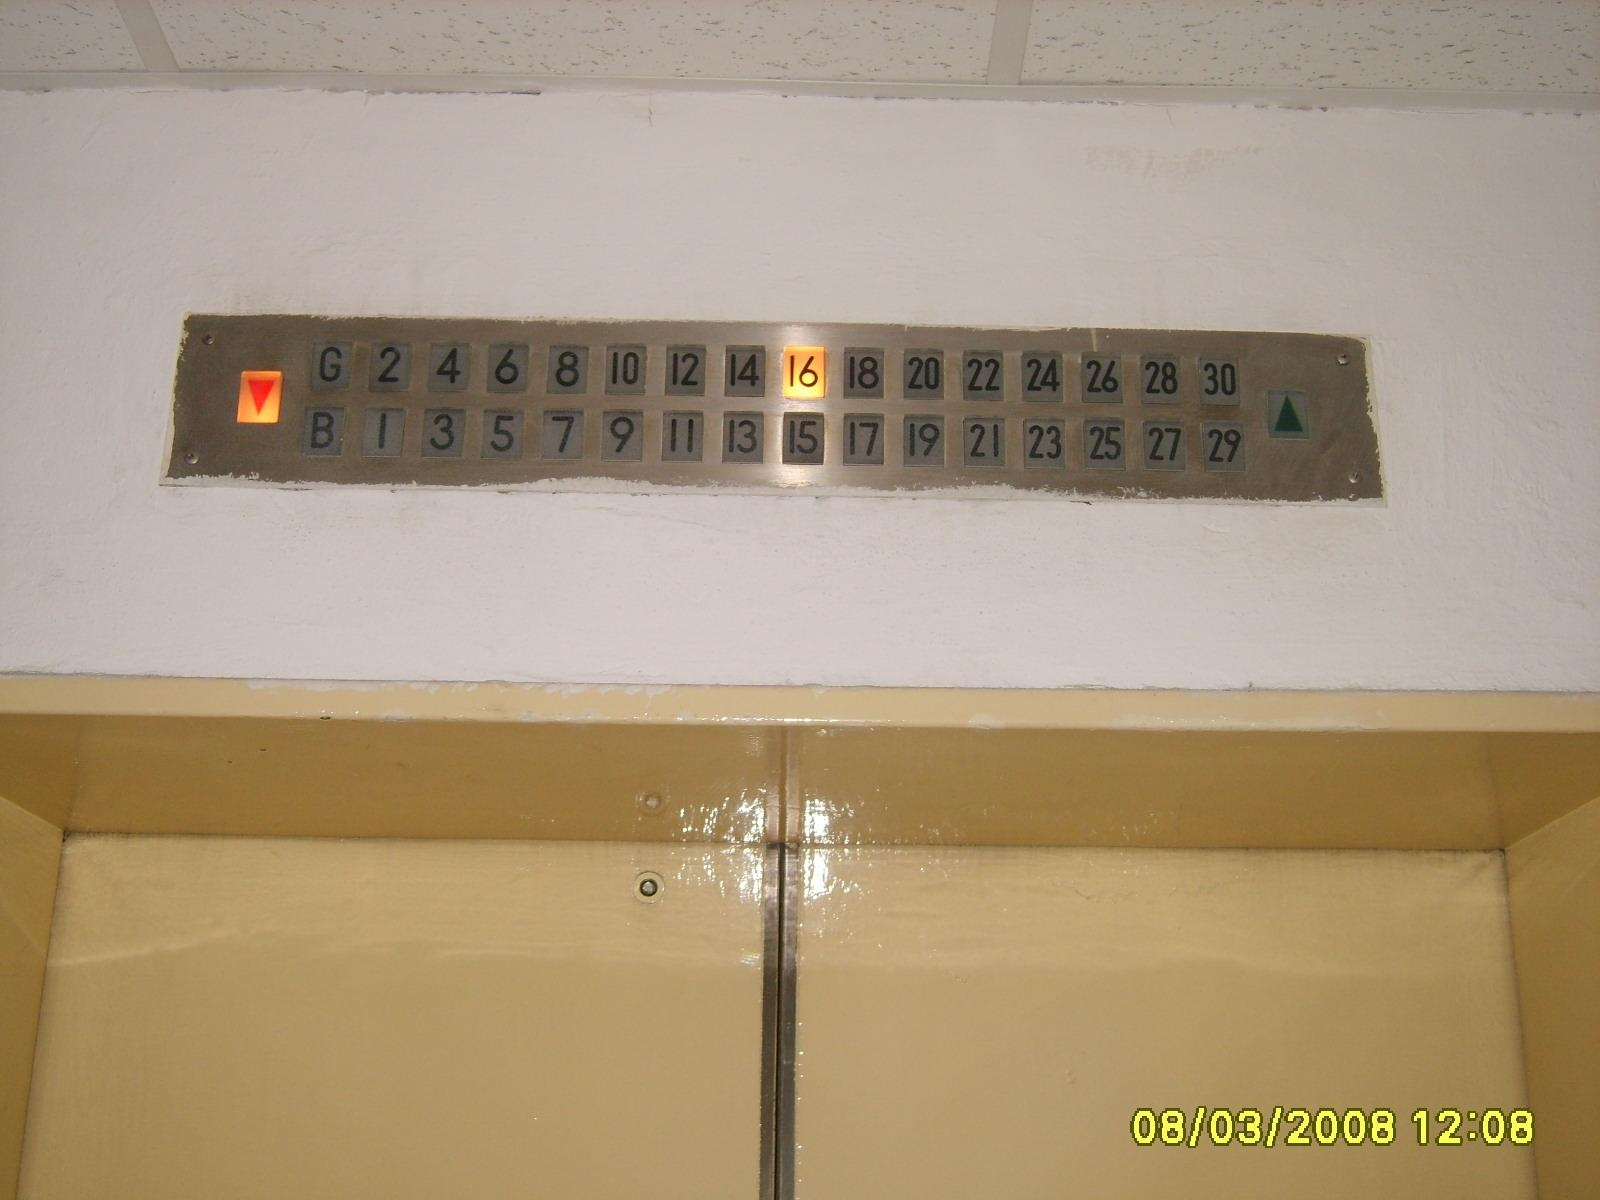1: (359, 405, 407, 458)
10: (603, 342, 649, 397)
11: (660, 408, 706, 464)
12: (663, 342, 708, 398)
13: (721, 408, 766, 465)
14: (722, 343, 769, 400)
15: (780, 410, 826, 466)
16: (780, 344, 826, 401)
17: (842, 410, 887, 466)
18: (842, 345, 886, 400)
19: (900, 412, 947, 470)
2: (367, 340, 412, 395)
20: (900, 345, 947, 402)
21: (963, 415, 1008, 469)
22: (960, 347, 1007, 403)
23: (1020, 416, 1067, 470)
24: (1020, 350, 1065, 403)
25: (1083, 417, 1128, 473)
26: (1080, 350, 1123, 405)
27: (1141, 418, 1188, 471)
28: (1140, 354, 1182, 406)
29: (1199, 421, 1249, 474)
3: (420, 406, 467, 458)
30: (1197, 355, 1241, 407)
4: (427, 339, 472, 393)
5: (480, 407, 524, 460)
6: (484, 340, 530, 395)
7: (538, 408, 588, 461)
8: (546, 342, 592, 396)
9: (598, 408, 648, 463)
B: (302, 405, 348, 456)
G: (311, 340, 357, 388)
down: (237, 369, 283, 424)
up: (1266, 388, 1311, 440)
